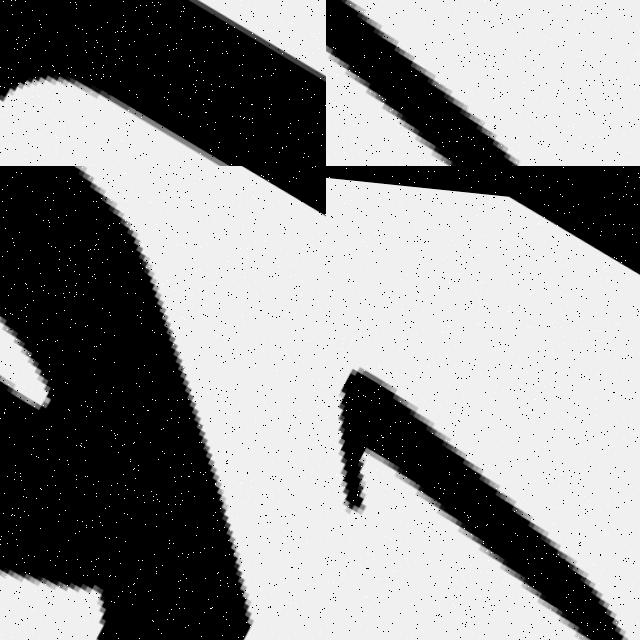J: (326, 261, 640, 640), (326, 0, 640, 166)
N: (0, 0, 326, 166)
Y: (0, 166, 326, 640)
